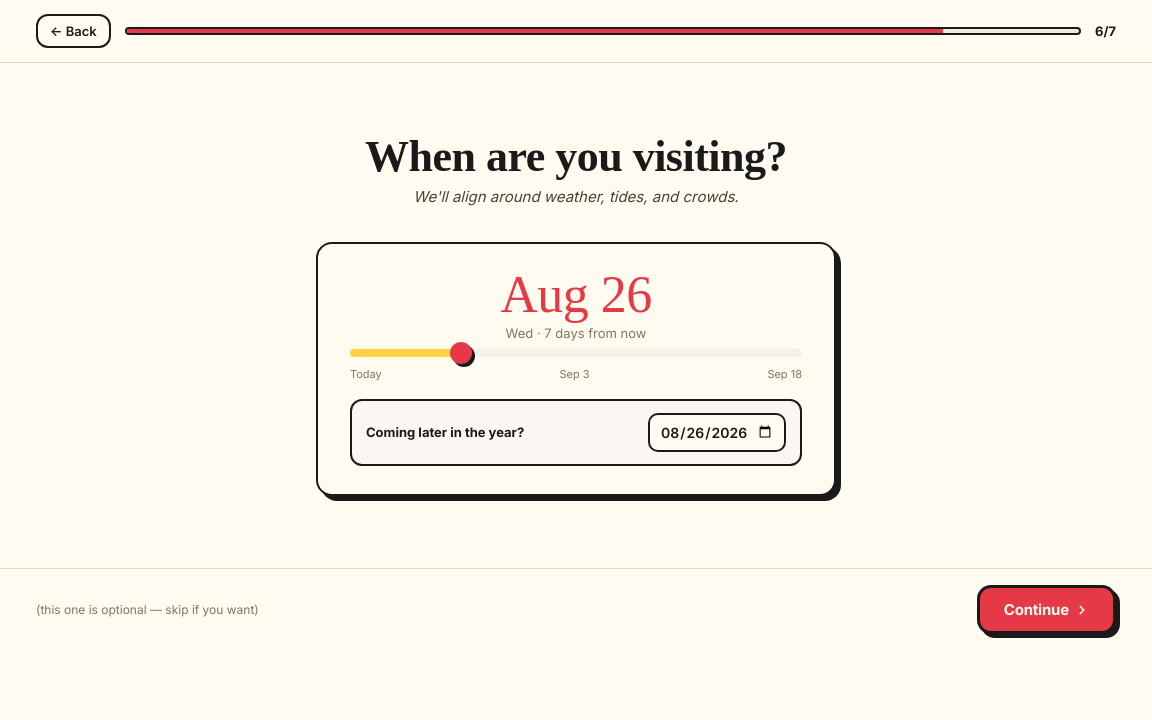
Q6 — arriving further out than the slider reaches › widens the track when the date field reaches past it
Type "2027-02-14" into the date field labelled "Coming later in the year?" at [717, 432], box [648,413,786,452]
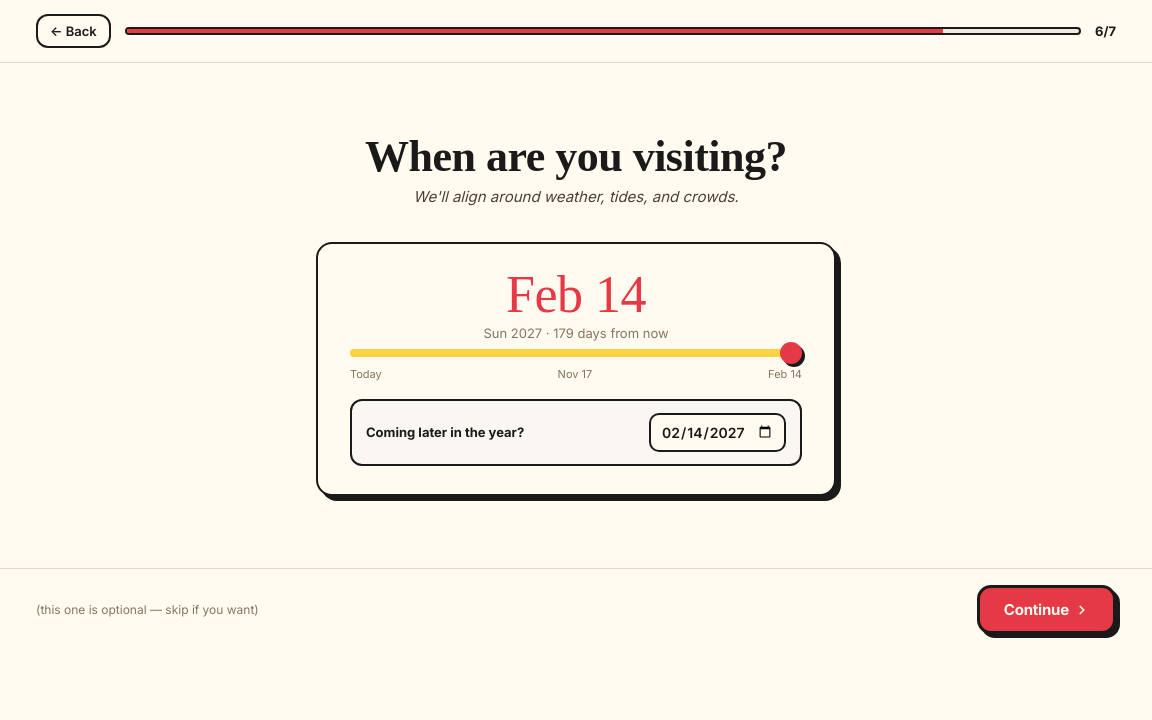
Result: the slider named "When you start" holds "179" at [350,349,802,357]
Type "2026-09-01" into the date field labelled "Coming later in the year?" at [718, 432], box [649,413,786,452]
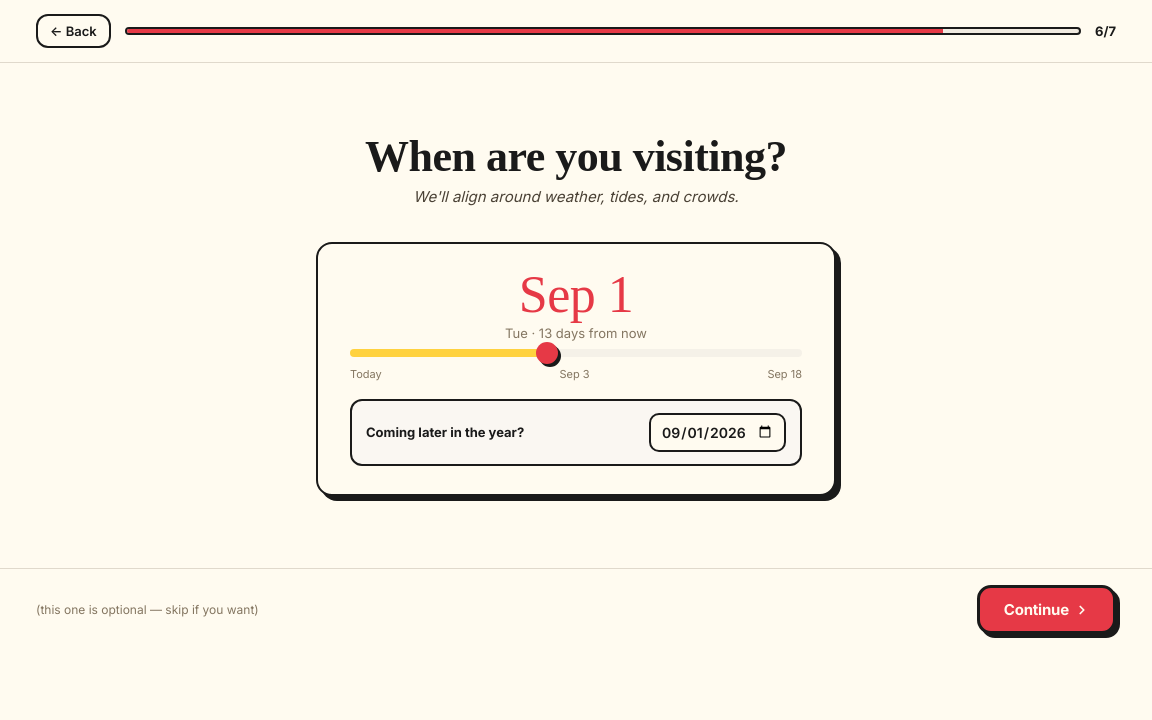
Result: the slider named "When you start" holds "13" at [350,349,802,357]
